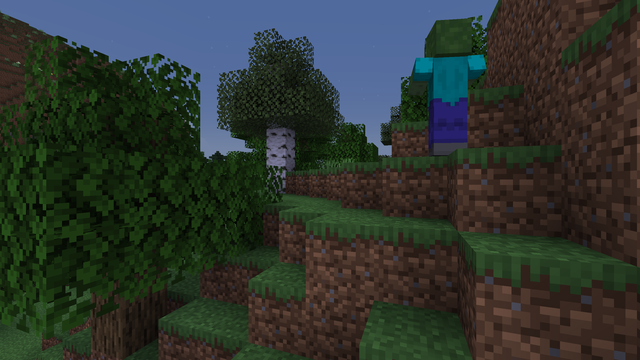zombies: (425, 16, 472, 157)
